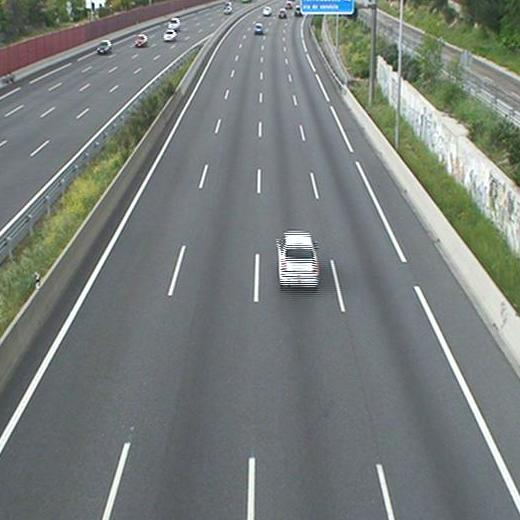cat: (274, 231, 321, 291)
